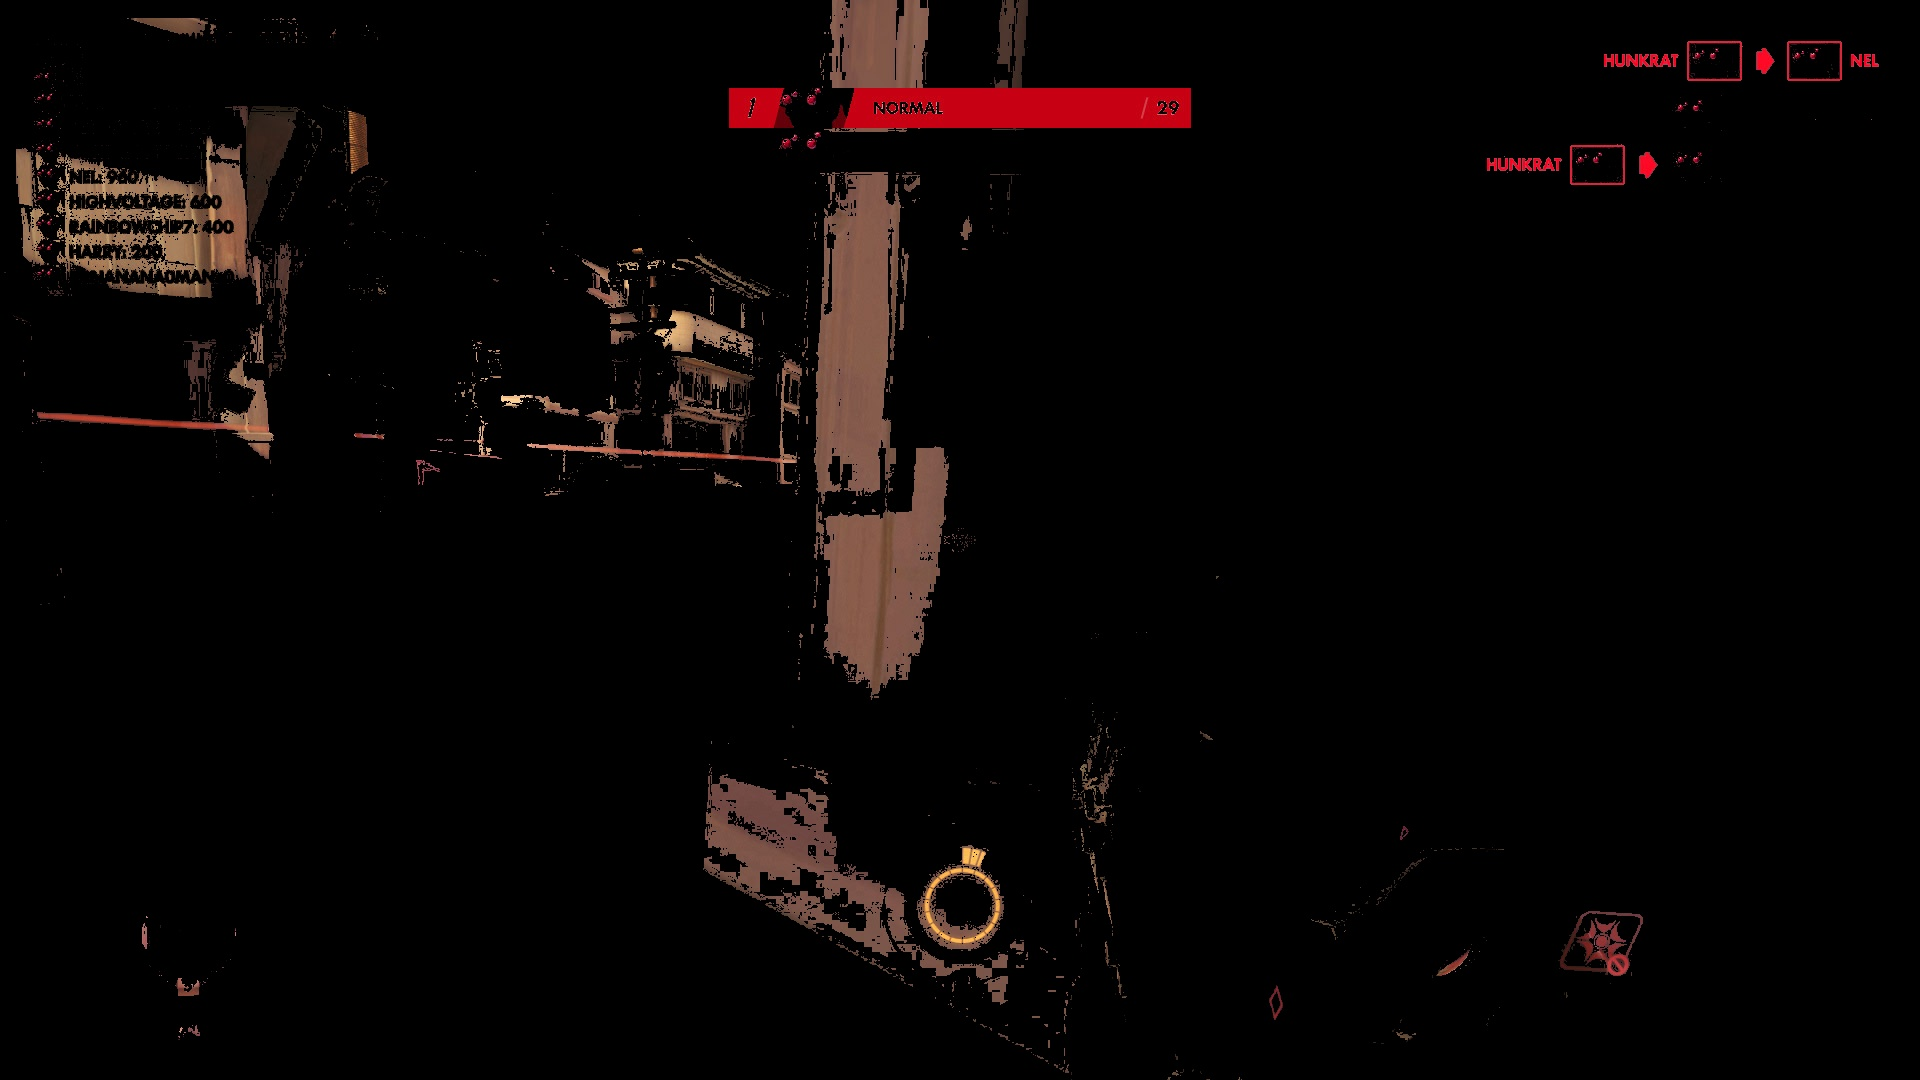widowmaker: (413, 456, 434, 489)
